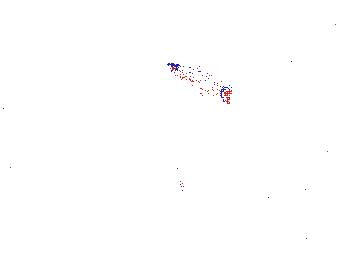glassfish: (154, 138, 190, 205), (119, 200, 177, 231)
redtail glassfish: (165, 61, 234, 106), (226, 1, 300, 30), (174, 54, 237, 84)
